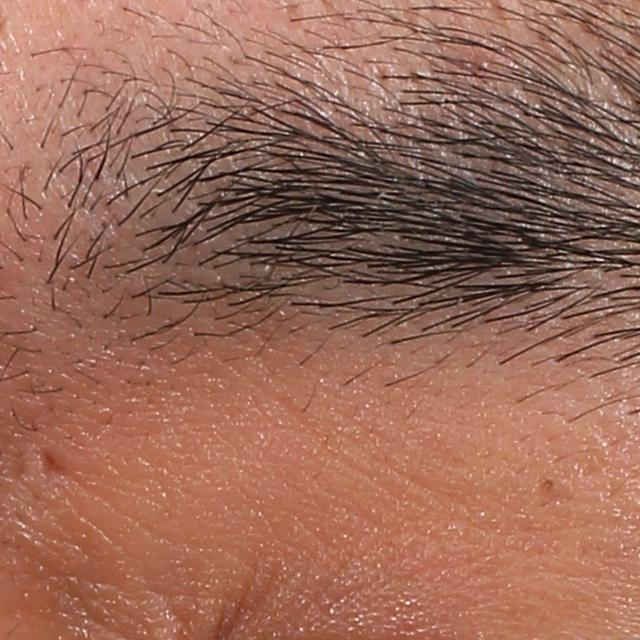atrophic_scar: (30, 444, 70, 474)
